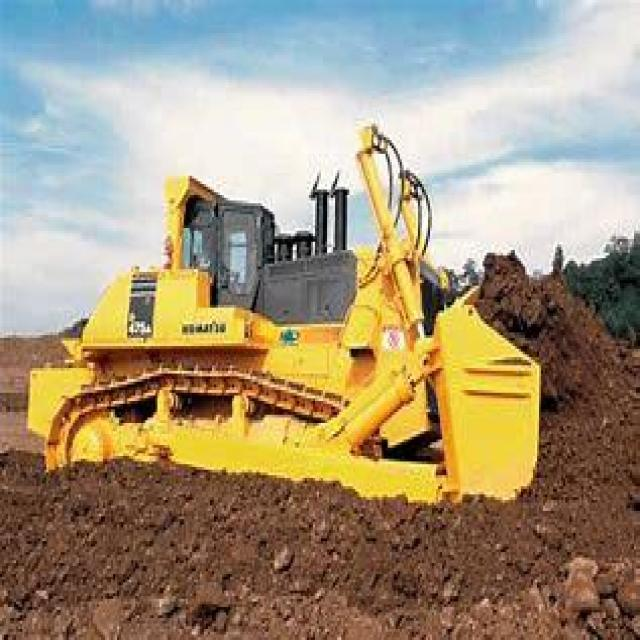buldozerpayloadergrader: (22, 110, 563, 533)
